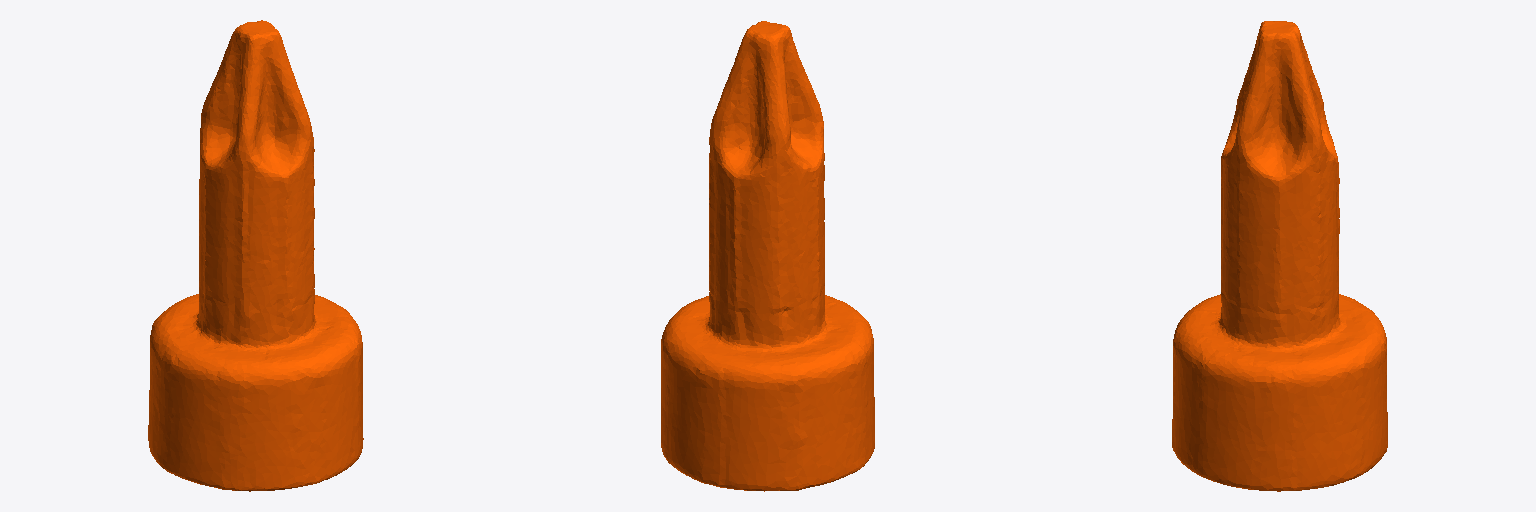
robot.urdf — 072-d_toy_airplane:
<?xml version="1.0" ?>
<robot name="072-d_toy_airplane">
   <material name="obj_color">
      <color rgba="1.0 0.423529411765 0.0392156862745 1.0"/>
   </material>
   <link name="top">
      <inertial>
         <origin rpy="3.319221060759918e-06 1.029968433844715e-05 1.031968612554946e-05" xyz="0.0001630077269399229 3.428903801370629e-05 -0.001576785387228917"/>
         <mass value="0.03601099454994435"/>
         <inertia ixx="1.031720727123679e-05" ixy="6.613116594205308e-09" ixz="4.529473451280247e-09" iyy="1.030193450055944e-05" iyz="-3.969986722682423e-08" izz="3.319449752960294e-06"/>
      </inertial>
      <visual>
         <origin rpy="0 0 0" xyz="0 0 0"/>
         <geometry>
            <mesh filename="top_watertight_tiny.stl" scale="1 1 1"/>
         </geometry>
         <material name="obj_color"/>
      </visual>
      <collision>
         <origin rpy="0 0 0" xyz="0 0 0"/>
         <geometry>
            <mesh filename="top_watertight_tiny.obj" scale="1 1 1"/>
         </geometry>
      </collision>
   </link>
   <link name="bottom">
      <inertial>
         <origin rpy="1.633333333199431e-08 1.633333333199431e-08 1.633333333362855e-08" xyz="0.3464080000000008 0.3464080000000008 0.3464080000000008"/>
         <mass value="0.0009800000000000017"/>
         <inertia ixx="1.633333333253906e-08" ixy="5.447480642029219e-19" ixz="5.447480642029219e-19" iyy="1.633333333253906e-08" iyz="5.447480642029219e-19" izz="1.633333333253906e-08"/>
      </inertial>
      <visual>
         <origin rpy="0 0 0" xyz="0 0 0"/>
         <geometry>
            <mesh filename="bottom_watertight_tiny.stl" scale="1 1 1"/>
         </geometry>
         <material name="obj_color"/>
      </visual>
   </link>
   <joint name="rotation" type="revolute">
      <origin xyz="0 0 0"/>
      <axis xyz="0 0 -1"/>
      <parent link="bottom"/>
      <child link="top"/>
      <dynamics damping="1.0" friction="1.0"/>
      <limit effort="0.1" velocity="0.1" lower="0" upper="0.001"/>
   </joint>
</robot>

--- Render facts (derived) ---
Views: 3 orthographic renders of the robot side by side, from view 1: azimuth 30°, elevation 25°; view 2: azimuth 150°, elevation 25°; view 3: azimuth 270°, elevation 25°.
Robot: 072-d_toy_airplane — 2 links, 1 joints (1 revolute); root link bottom; default pose: all joints at 0.
Links seen in each view (by area): view 1: top; view 2: top; view 3: top.
Boxes of the visible links, <box> form: top: <box>148,20,363,491</box>; top: <box>661,21,874,491</box>; top: <box>1172,21,1387,491</box>.
Bounding box of the posed robot: 0.0307 × 0.0307 × 0.0664 m (x, y, z).
1 mesh visuals loaded from 2 distinct referenced files (1 binary STL); not drawn: 1 (reference not matched to a file when rendering).
